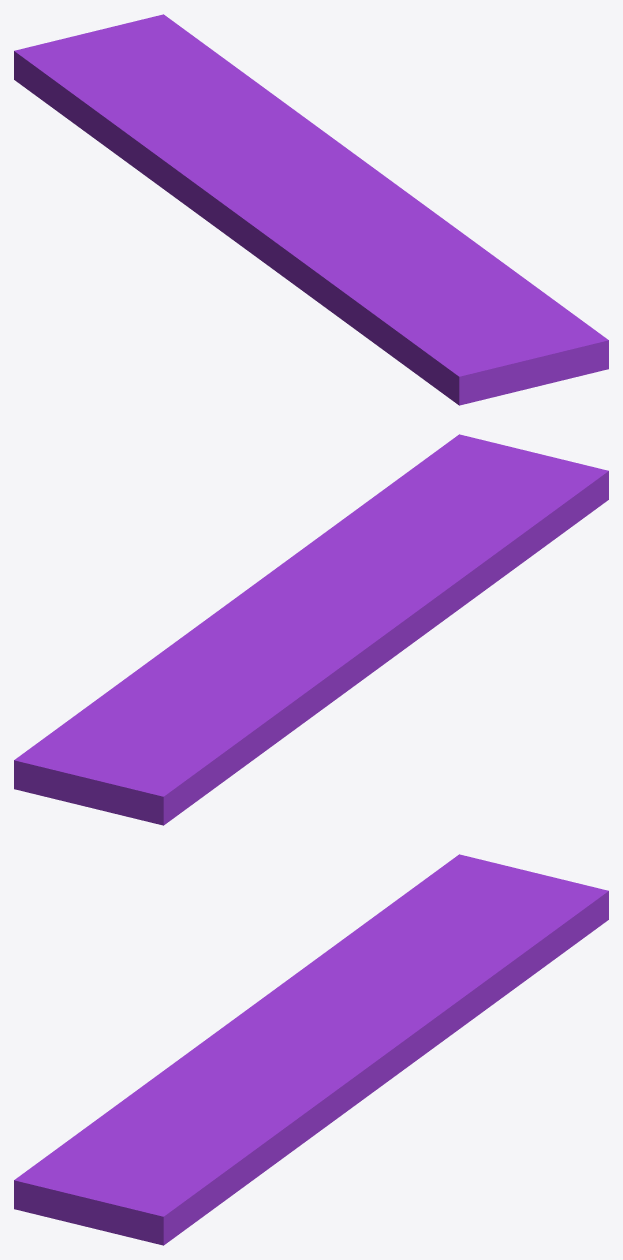
File: StairsStep_140_chunks.fbx
The picture shows the model from 3 angles, top to bottom: view 1: azimuth 30°, elevation 25°; view 2: azimuth 150°, elevation 25°; view 3: azimuth 330°, elevation 25°; orthographic projection.
Parts seen in each view (by area): view 1: StairsStep_140_2, StairsStep_140_1, StairsStep_140_0, StairsStep_140_3; view 2: StairsStep_140_1, StairsStep_140_2, StairsStep_140_0, StairsStep_140_3; view 3: StairsStep_140_2, StairsStep_140_1, StairsStep_140_3, StairsStep_140_0.
Boxes of the visible parts, x1,y1,x2,y2 form: StairsStep_140_2: (256,205,608,405); StairsStep_140_1: (14,14,344,216); StairsStep_140_0: (178,171,322,256); StairsStep_140_3: (305,147,470,239); StairsStep_140_1: (14,622,351,825); StairsStep_140_2: (322,434,608,647); StairsStep_140_0: (298,602,429,687); StairsStep_140_3: (195,535,326,627); StairsStep_140_2: (14,1044,329,1245); StairsStep_140_1: (295,854,608,1063); StairsStep_140_3: (296,1023,427,1123); StairsStep_140_0: (194,975,324,1048).
Bounding box in the file's own units: 157 × 28.98 × 810.
